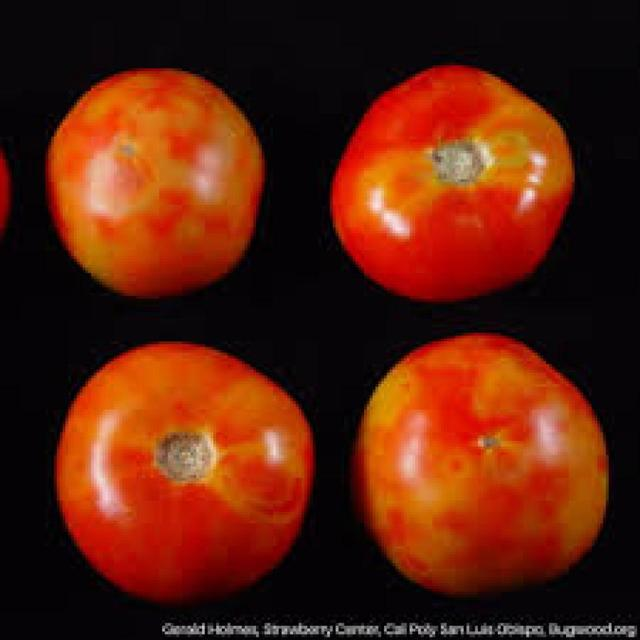Spotted wilt Virus Fruit: (36, 123, 241, 355)
